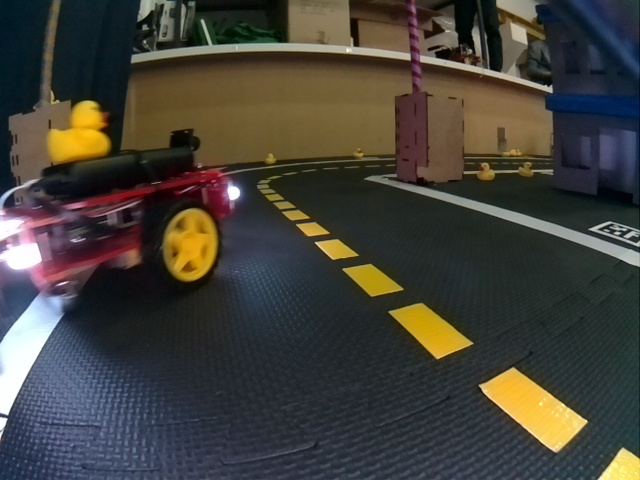Duckie: (47, 101, 109, 158), (477, 163, 495, 180), (518, 162, 533, 176), (265, 154, 275, 164), (353, 148, 363, 157)
Duckiebot: (2, 142, 239, 293)
QR code: (590, 222, 640, 247)
